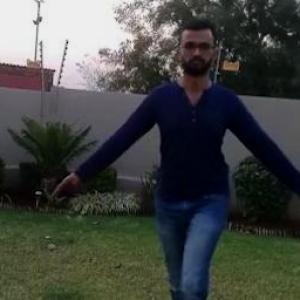land: (104, 46, 299, 299)
